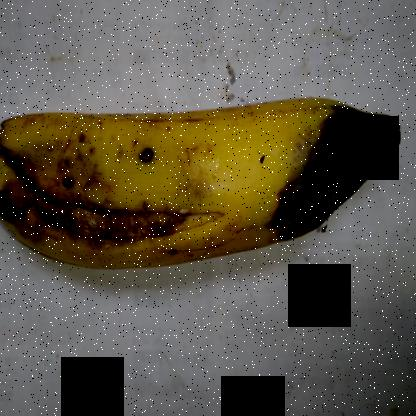rotten: (1, 133, 229, 294), (240, 74, 408, 264)
